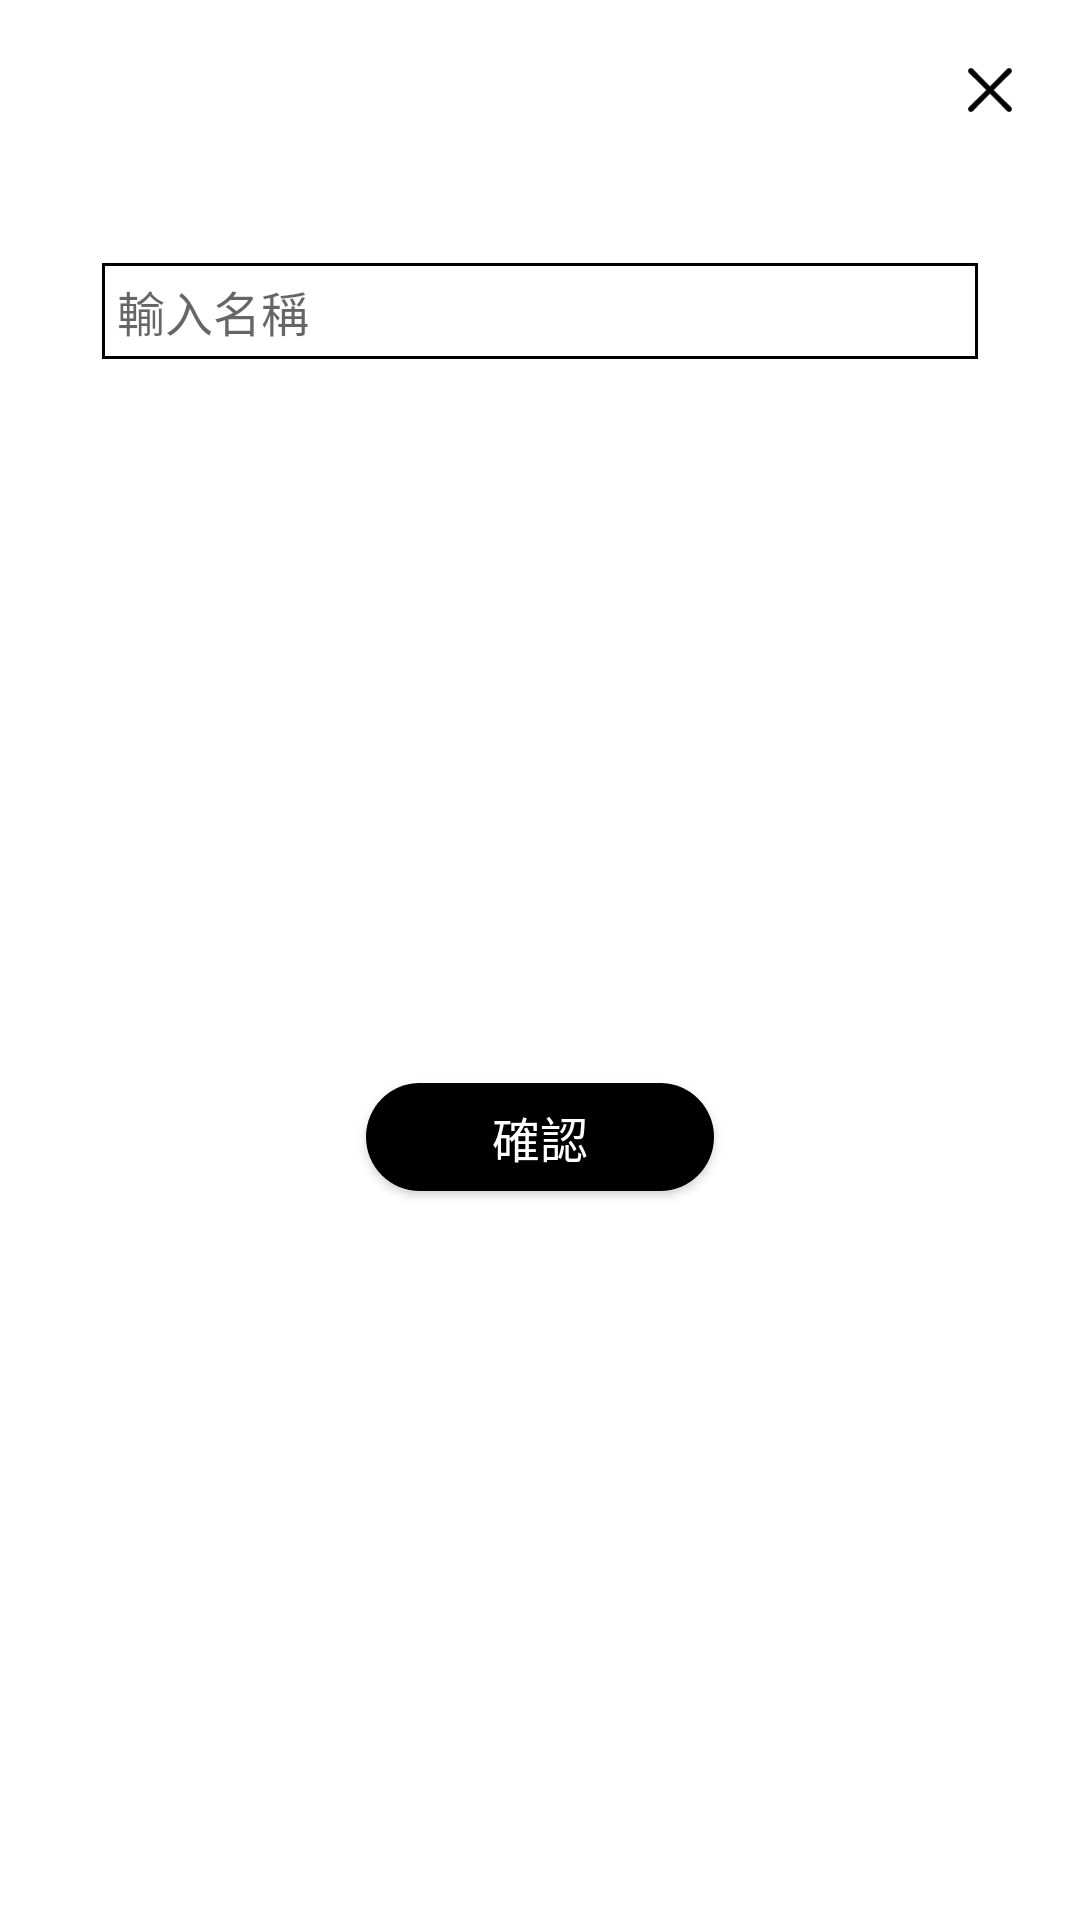

Point at icon controls on the screen. Image size 1080 × 1920, points as [x,y].
cancel: [990,90]
